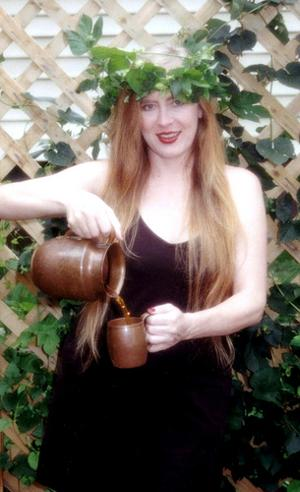person: (2, 35, 268, 492)
